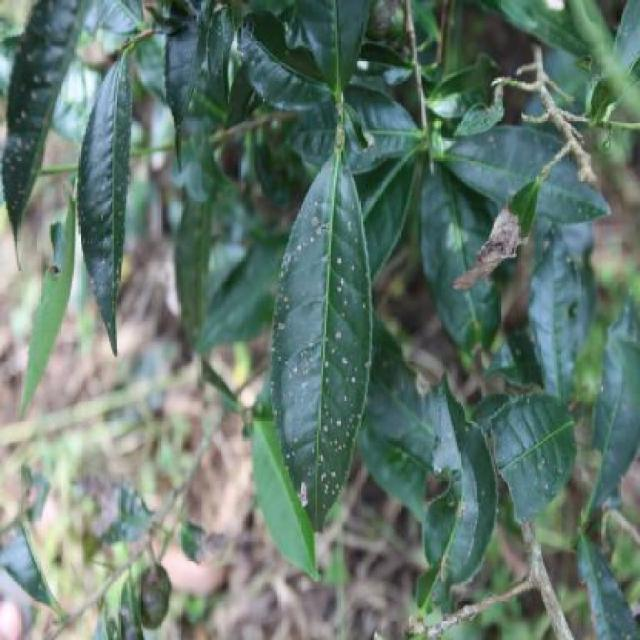Leaf rust of tea: (272, 163, 362, 506)
